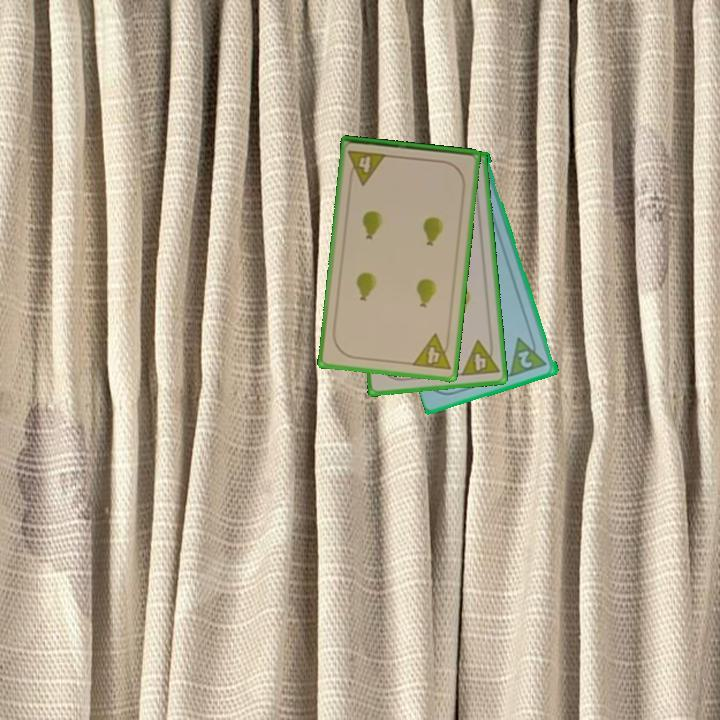2p: (515, 347, 536, 371)
4p: (457, 336, 502, 379), (409, 331, 453, 373), (345, 147, 389, 187)
